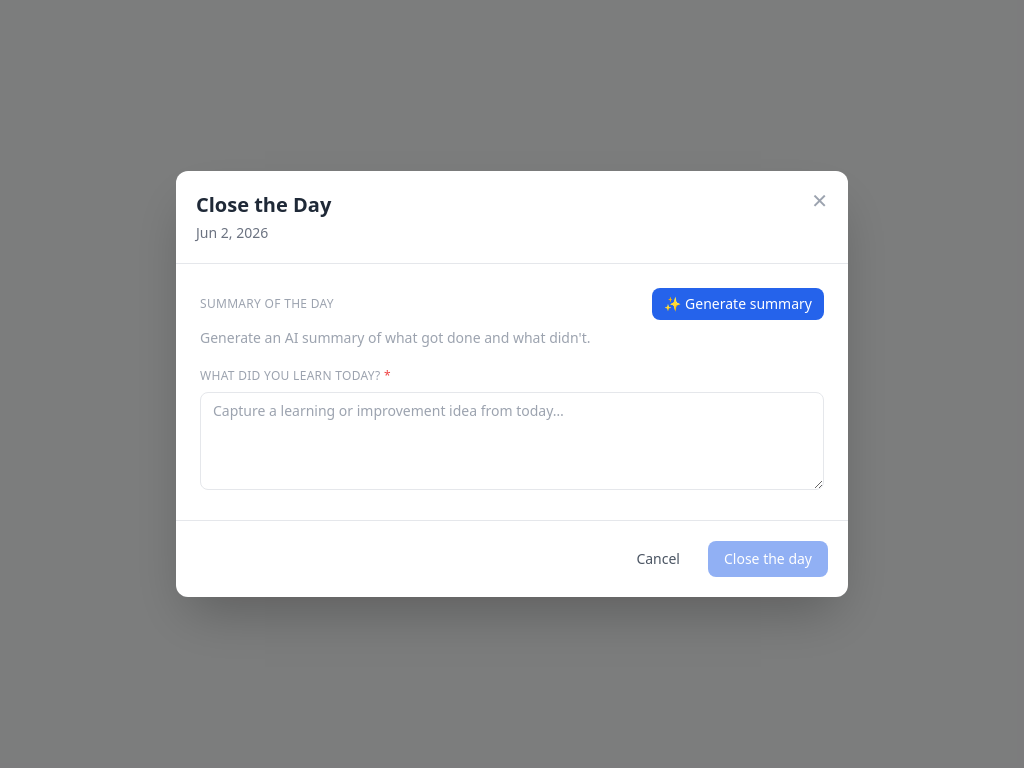
Test: CloseDayModal › shows an error if summary generation fails
The width and height of the screenshot is (1024, 768).
Click the button "✨ Generate summary": x=738, y=304 [652,288,824,320]
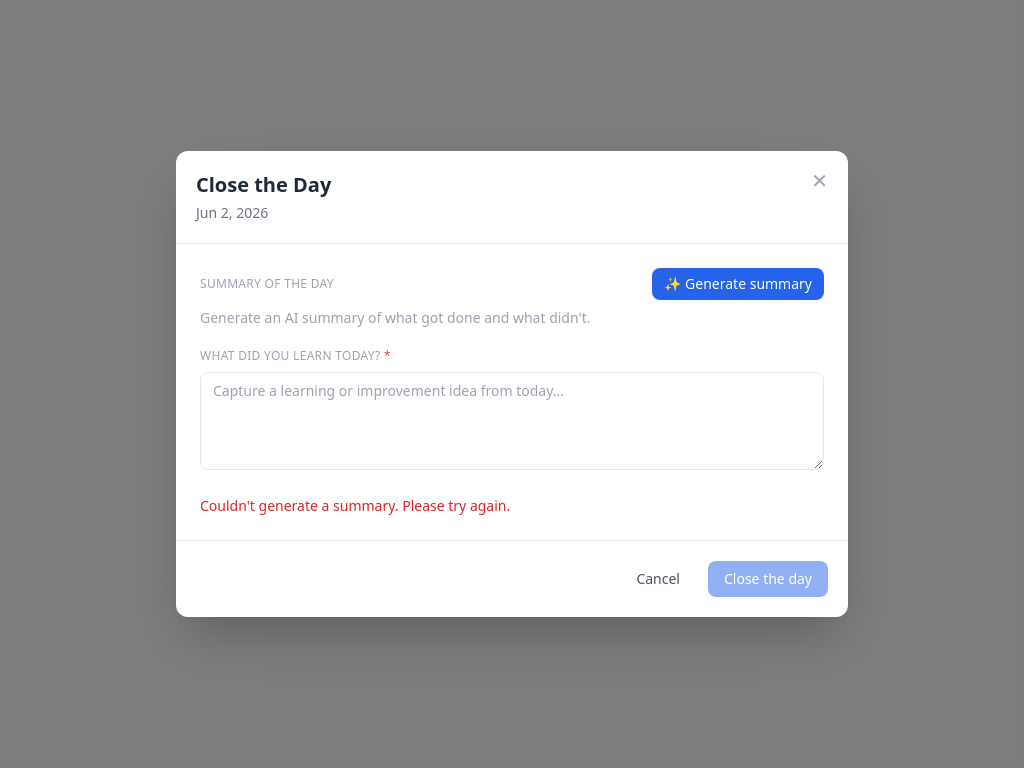
expect the message shows "Couldn't generate": met, box [200,496,510,515]
